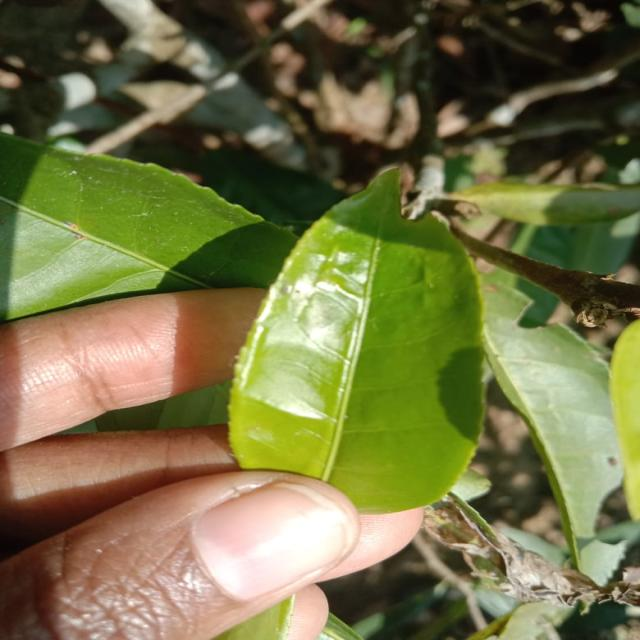Category B 2-4 days: (219, 156, 500, 523)
